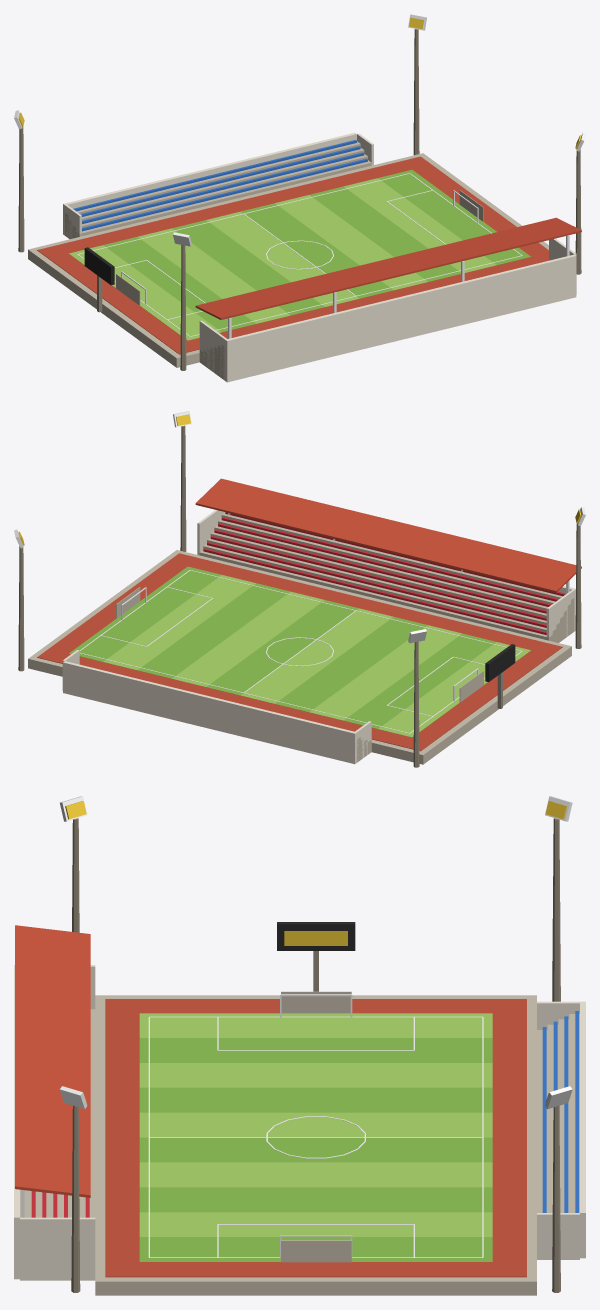
File: stadium.glb
3 views of the same model, one above another, from view 1: azimuth 30°, elevation 25°; view 2: azimuth 150°, elevation 25°; view 3: azimuth 270°, elevation 25° (orthographic). The views are drawn at different scales.
Parts seen in each view (by area): view 1: Stadium; view 2: Stadium; view 3: Stadium.
Boxes of the visible parts, x1,y1,x2,y2 form: Stadium: (14, 14, 585, 382); Stadium: (14, 411, 585, 767); Stadium: (14, 796, 585, 1295).
Size of the model in its own units: 72.15 by 23.44 by 58.3.
